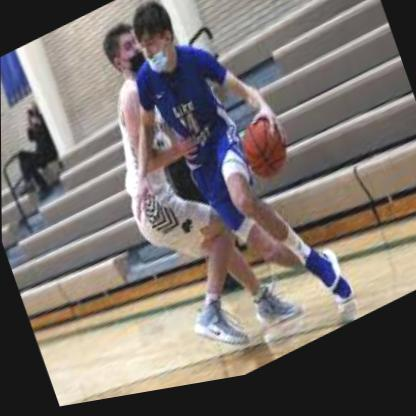basketball: (235, 118, 293, 197)
